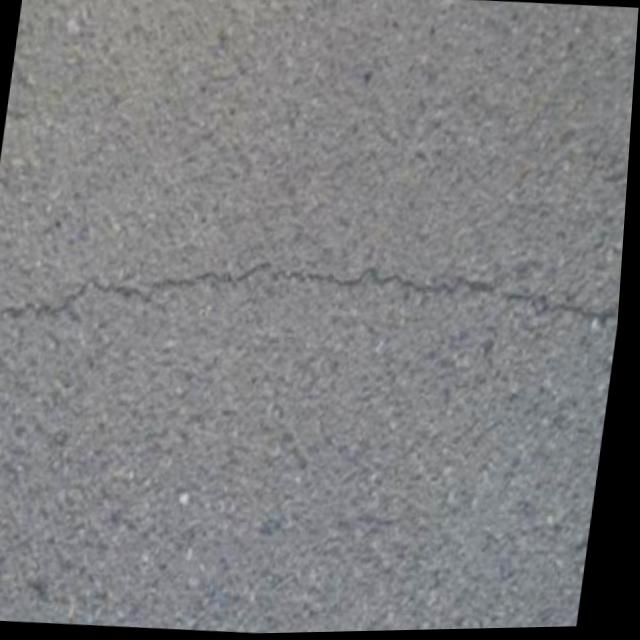Crack: (0, 233, 627, 377)
